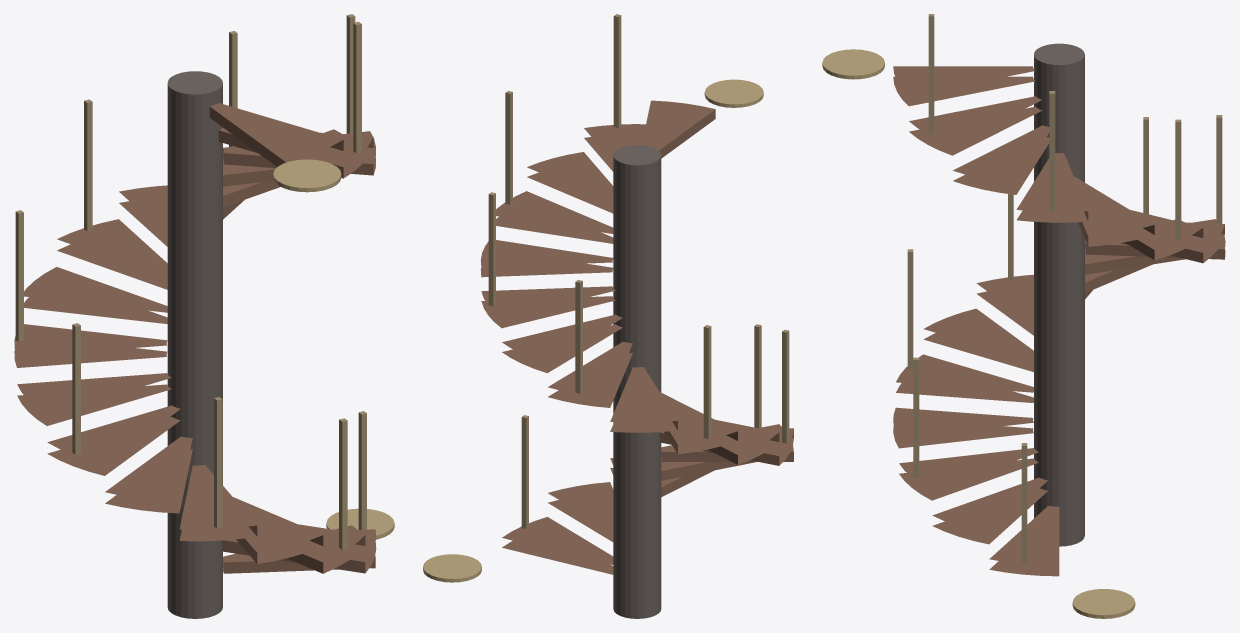
Rendered from connection_025.glb.
3 renders of one model, left to right at view 1: azimuth 30°, elevation 25°; view 2: azimuth 150°, elevation 25°; view 3: azimuth 270°, elevation 25°, orthographic. The views are drawn at different scales.
Visible parts, largest first — view 1: connection_025-center-post, connection_025-oak-tread-10, connection_025-oak-tread-08, connection_025-oak-tread-09, connection_025-oak-tread-07, connection_025-oak-tread-18, connection_025-oak-tread-11, connection_025-oak-tread-06, connection_025-oak-tread-05, connection_025-oak-tread-04, connection_025-upper-approach-marker, connection_025-oak-tread-12 (+17 smaller); view 2: connection_025-center-post, connection_025-oak-tread-15, connection_025-oak-tread-14, connection_025-oak-tread-13, connection_025-oak-tread-01, connection_025-oak-tread-12, connection_025-oak-tread-16, connection_025-oak-tread-10, connection_025-oak-tread-11, connection_025-oak-tread-18, connection_025-oak-tread-02, connection_025-oak-tread-09 (+15 smaller); view 3: connection_025-center-post, connection_025-oak-tread-18, connection_025-oak-tread-04, connection_025-oak-tread-17, connection_025-oak-tread-03, connection_025-oak-tread-05, connection_025-oak-tread-06, connection_025-oak-tread-02, connection_025-oak-tread-16, connection_025-oak-tread-01, connection_025-oak-tread-15, connection_025-oak-tread-14 (+16 smaller).
Boxes of the visible parts, box(x1,y1,x2,y2) form: connection_025-center-post: box(167, 71, 222, 618); connection_025-oak-tread-10: box(24, 267, 167, 323); connection_025-oak-tread-08: box(17, 373, 171, 425); connection_025-oak-tread-09: box(14, 324, 167, 367); connection_025-oak-tread-07: box(47, 405, 180, 475); connection_025-oak-tread-18: box(209, 103, 343, 166); connection_025-oak-tread-11: box(57, 219, 167, 289); connection_025-oak-tread-06: box(105, 436, 192, 513); connection_025-oak-tread-05: box(179, 465, 257, 541); connection_025-oak-tread-04: box(233, 497, 323, 564); connection_025-upper-approach-marker: box(273, 159, 341, 192); connection_025-oak-tread-12: box(119, 185, 167, 246); connection_025-center-post: box(613, 145, 661, 618); connection_025-oak-tread-15: box(496, 191, 613, 243); connection_025-oak-tread-14: box(480, 240, 613, 277); connection_025-oak-tread-13: box(481, 286, 615, 328); connection_025-oak-tread-01: box(502, 517, 613, 574); connection_025-oak-tread-12: box(502, 314, 622, 373); connection_025-oak-tread-16: box(527, 152, 613, 213); connection_025-oak-tread-10: box(610, 367, 677, 432); connection_025-oak-tread-11: box(548, 341, 632, 407); connection_025-oak-tread-18: box(642, 100, 715, 158); connection_025-oak-tread-02: box(548, 482, 613, 541); connection_025-oak-tread-09: box(660, 392, 737, 454); connection_025-center-post: box(1034, 43, 1084, 546); connection_025-oak-tread-18: box(893, 66, 1035, 106); connection_025-oak-tread-04: box(893, 407, 1033, 448); connection_025-oak-tread-17: box(909, 96, 1041, 155); connection_025-oak-tread-03: box(899, 448, 1038, 500); connection_025-oak-tread-05: box(896, 354, 1033, 402); connection_025-oak-tread-06: box(923, 308, 1033, 371); connection_025-oak-tread-02: box(932, 477, 1047, 544); connection_025-oak-tread-16: box(953, 125, 1049, 194); connection_025-oak-tread-01: box(989, 505, 1059, 576); connection_025-oak-tread-15: box(1016, 153, 1088, 222); connection_025-oak-tread-14: box(1074, 176, 1154, 246).
Size of the model in its own units: 2.42 by 3.77 by 2.45.
